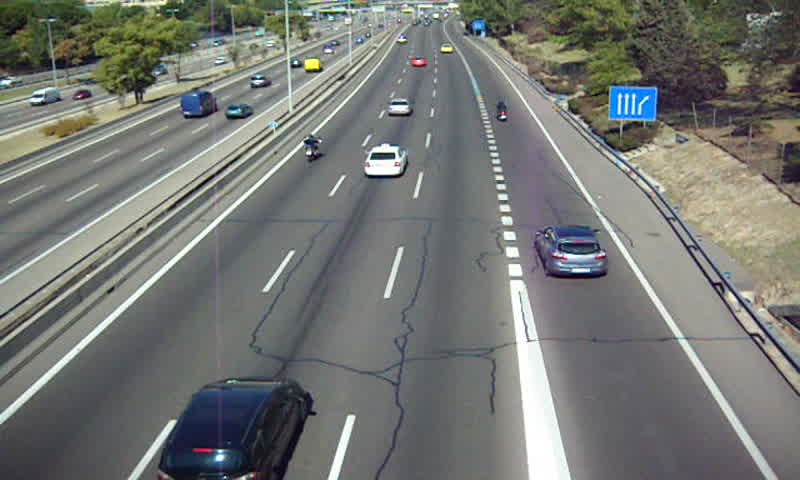car: (157, 377, 304, 480), (536, 226, 608, 275), (363, 145, 407, 176), (386, 97, 412, 116), (411, 55, 429, 69), (439, 43, 454, 54)
motorcycle: (301, 133, 321, 164), (495, 100, 509, 121)
